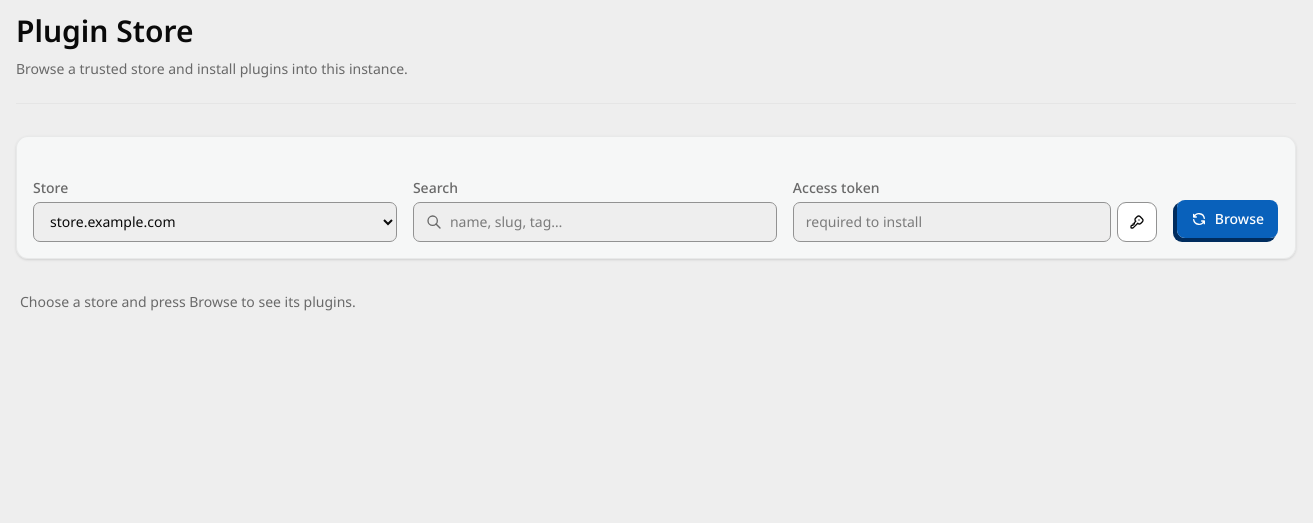
Test: browses the store and renders plugin cards
Check: the dropdown shows "store.example.com", box [33,202,397,242]
Wait for the single allowed store to be preselected (Browse enables), then click.
Click the button "Browse" at [1227, 218], box [1176,198,1279,238]
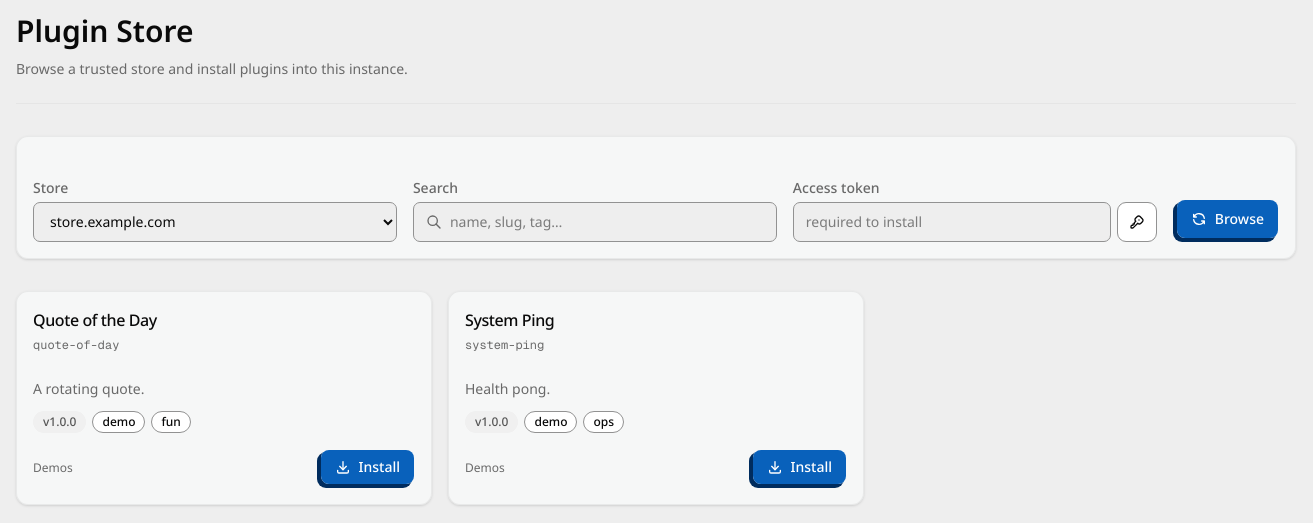
Check: the text "Quote of the Day" is shown, box [33,308,157,330]
Check: the text "System Ping" is shown, box [465,308,554,330]
